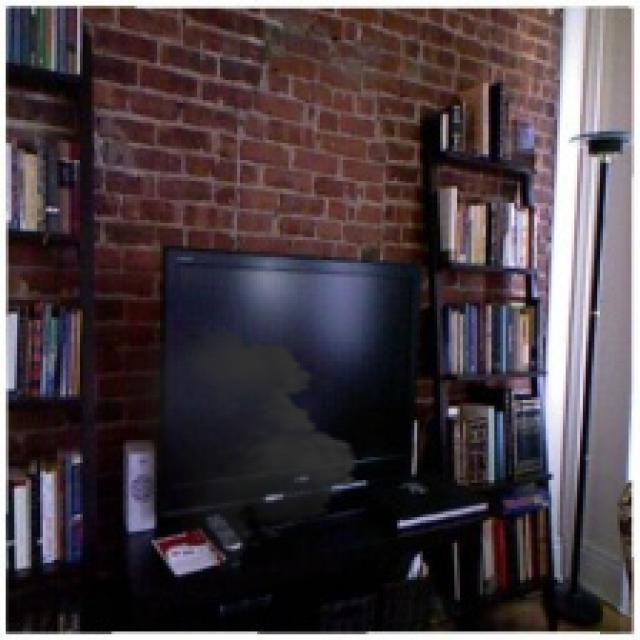Smoke: (92, 320, 368, 574)
